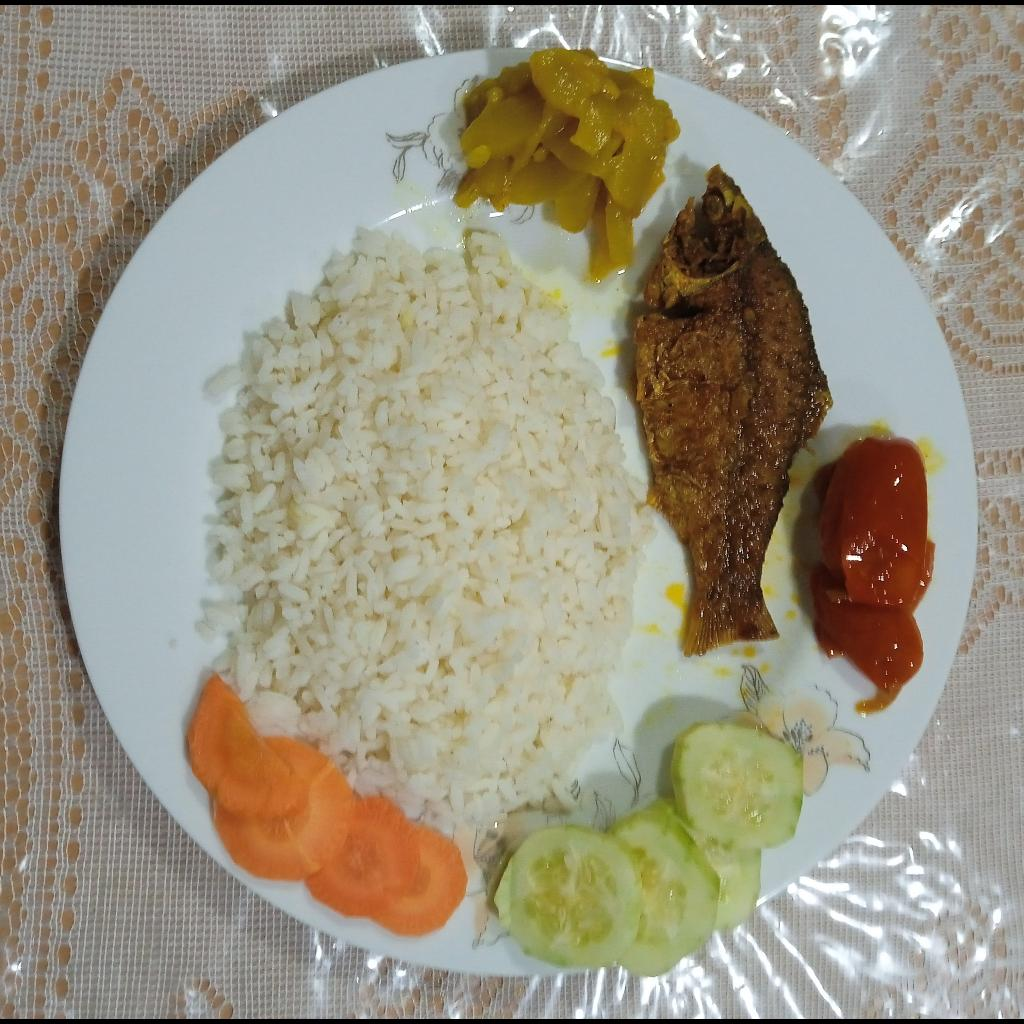carrot: (182, 676, 471, 935)
cucumber: (493, 723, 803, 982)
fish: (631, 166, 838, 650)
lau: (451, 47, 680, 281)
rice: (199, 229, 641, 823)
tomato: (808, 434, 940, 697)
